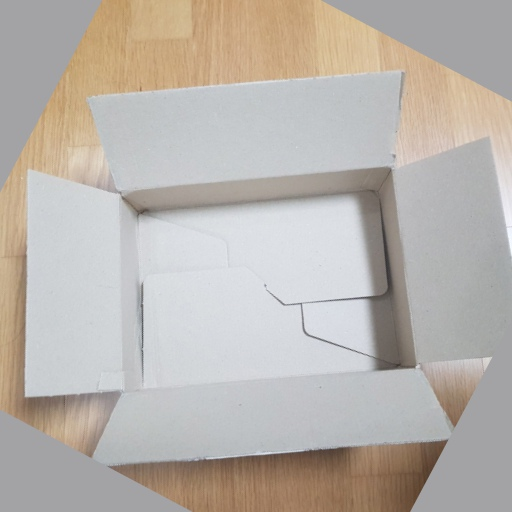Paper_0: (21, 68, 512, 468)
